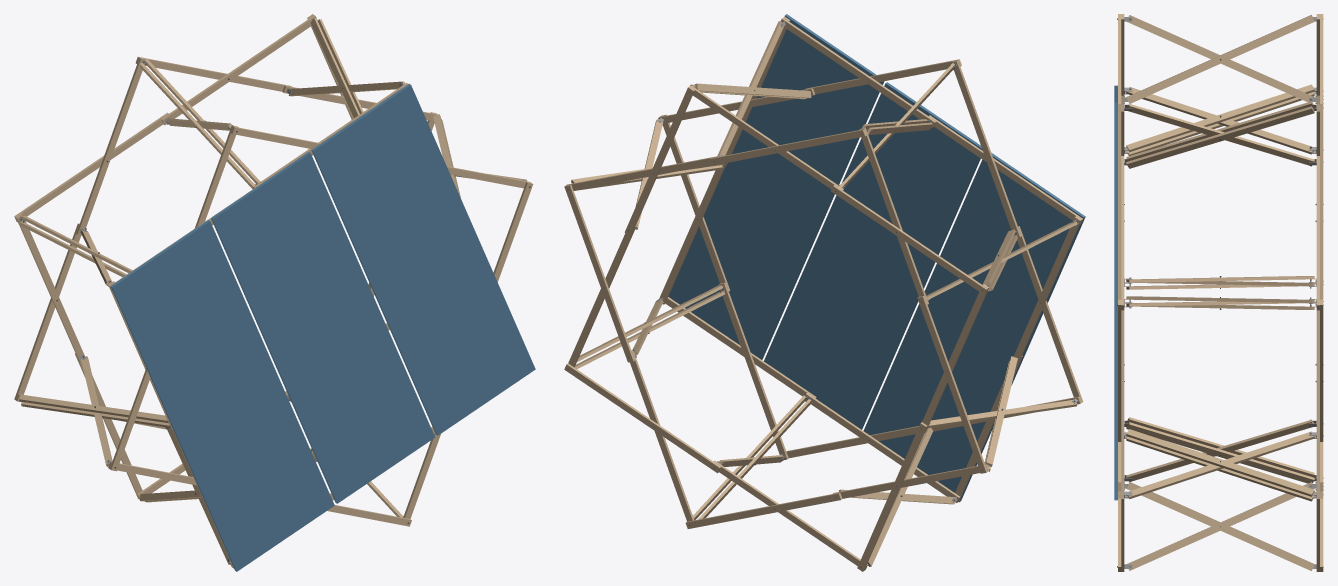
The model's file is LinkageLab_Export_1769063443955.gltf.
3 views of the same model, side by side, from view 1: azimuth 30°, elevation 25°; view 2: azimuth 150°, elevation 25°; view 3: azimuth 270°, elevation 25° (orthographic). The views are drawn at different scales.
Visible parts, largest first — view 1: Panel_1, Panel_0, Panel_2, Panel_17, Panel_3, Panel_6, Panel_9, Panel_4, Panel_5, Panel_7, Panel_12, Panel_15 (+15 smaller); view 2: HBeam_Bottom_0 (×8), HBeam_Bottom_1 (×8), HBeam_Top_1 (×7), HBeam_Top_0 (×7), Panel_13, Panel_10, Panel_11, Panel_16, Panel_14, Panel_4, Panel_6, Panel_2 (+18 smaller); view 3: VBeam_1 (×3), VBeam_2 (×3), VBeam_7 (×3), VBeam_3 (×2), VBeam_4 (×3), VBeam_5 (×2), VBeam_6 (×2), HBeam_Top_1 (×4), HBeam_Bottom_1 (×4), HBeam_Top_0 (×4), HBeam_Bottom_0 (×4), VBeam_0 (×3) (+4 smaller).
Boxes of the visible parts, x1,y1,x2,y2 form: Panel_1: [211, 152, 331, 266]; Panel_0: [110, 220, 230, 334]; Panel_2: [311, 83, 431, 198]; Panel_17: [415, 322, 535, 435]; Panel_3: [131, 269, 251, 382]; Panel_6: [152, 316, 272, 429]; Panel_9: [173, 363, 293, 476]; Panel_4: [232, 200, 351, 313]; Panel_5: [332, 132, 452, 245]; Panel_7: [252, 248, 372, 361]; Panel_12: [193, 411, 313, 524]; Panel_15: [214, 458, 334, 571]; HBeam_Bottom_0 (×8): [564, 86, 987, 571]; HBeam_Bottom_1 (×8): [566, 85, 989, 570]; HBeam_Top_1 (×7): [658, 18, 1081, 502]; HBeam_Top_0 (×7): [660, 59, 1083, 501]; Panel_13: [781, 273, 901, 386]; Panel_10: [802, 225, 918, 339]; Panel_11: [707, 162, 822, 270]; Panel_16: [764, 320, 880, 429]; Panel_14: [686, 208, 801, 318]; Panel_4: [844, 135, 963, 244]; Panel_6: [924, 246, 1043, 359]; Panel_2: [770, 14, 884, 128]; VBeam_1 (×3): [1126, 104, 1314, 496]; VBeam_2 (×3): [1126, 15, 1314, 498]; VBeam_7 (×3): [1126, 282, 1314, 501]; VBeam_3 (×2): [1126, 84, 1314, 154]; VBeam_4 (×3): [1126, 101, 1314, 286]; VBeam_5 (×2): [1126, 417, 1314, 481]; VBeam_6 (×2): [1126, 92, 1314, 570]; HBeam_Top_1 (×4): [1121, 14, 1124, 571]; HBeam_Bottom_1 (×4): [1316, 14, 1319, 571]; HBeam_Top_0 (×4): [1118, 14, 1121, 571]; HBeam_Bottom_0 (×4): [1320, 14, 1323, 571]; VBeam_0 (×3): [1126, 296, 1314, 309].
Bounding box in the file's own units: 6.23 × 6.24 × 2.52.
